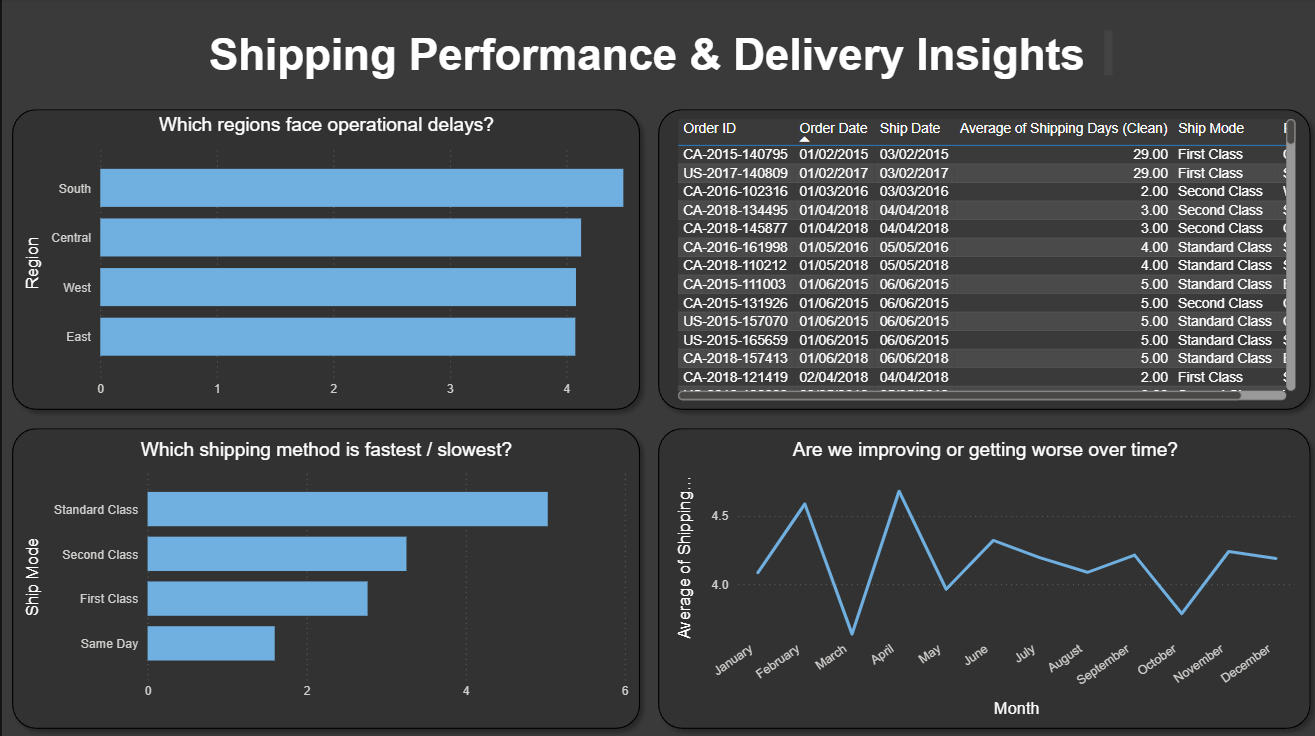

What the dashboard file says about the page in this screenshot:
{"tool":"powerbi","page":{"name":"Shipping & Operations","canvas":[1280,720],"ordinal":3},"visuals":[{"type":"group","id":"g1","title":"Group 1","box":[0,99.2,1280,620.3],"z":0},{"type":"shape","box":[628.2,409.3,651.8,310.1],"z":0,"group":"g1"},{"type":"shape","box":[628.2,99.2,651.8,310.1],"z":1000,"group":"g1"},{"type":"barChart","title":"Which shipping method is fastest / slowest?","fields":{"Category":["Super_Store_Data.Ship Mode"],"Y":["Avg(Super_Store_Data.Shipping Days (Clean))"]},"box":[15.8,428.5,597.7,275.2],"z":1000},{"type":"shape","box":[0,99.2,628.2,310.1],"z":2000,"group":"g1"},{"type":"lineChart","title":"Are we improving or getting worse over time?","fields":{"Category":["Super_Store_Data.order_date.Variation.Date Hierarchy.Month"],"Y":["Avg(Super_Store_Data.Shipping Days (Clean))"]},"box":[649.6,428.5,611.2,275.2],"z":2000},{"type":"barChart","title":"Which regions face operational delays?","fields":{"Category":["Super_Store_Data.Region"],"Y":["Avg(Super_Store_Data.Shipping Days (Clean))"]},"box":[15.6,112.7,597.7,282.8],"z":3000},{"type":"shape","box":[0,409.3,628.2,310.1],"z":3000,"group":"g1"},{"type":"tableEx","fields":{"Values":["Super_Store_Data.Order ID","Super_Store_Data.Order Date","Super_Store_Data.Ship Date","Avg(Super_Store_Data.Shipping Days (Clean))","Super_Store_Data.Ship Mode","Super_Store_Data.Region"]},"box":[650.1,112.7,610.7,282.8],"z":4000},{"type":"textbox","box":[195.1,25.9,887.5,63.2],"z":5000}]}

Visuals, with their boxes in screenshot pixels (x1, y1, x2, y2), scaled from the page's 1280x720 canvas onto the 1315x736 screenshot:
"Group 1" group: BBox(0, 101, 1314, 735)
shape: BBox(645, 418, 1314, 735)
shape: BBox(645, 101, 1314, 418)
"Which shipping method is fastest / slowest?" barChart: BBox(16, 438, 630, 719)
shape: BBox(0, 101, 645, 418)
"Are we improving or getting worse over time?" lineChart: BBox(667, 438, 1295, 719)
"Which regions face operational delays?" barChart: BBox(16, 115, 630, 404)
shape: BBox(0, 418, 645, 735)
tableEx - Super_Store_Data.Order ID x Super_Store_Data.Order Date: BBox(668, 115, 1295, 404)
textbox: BBox(200, 26, 1112, 91)
